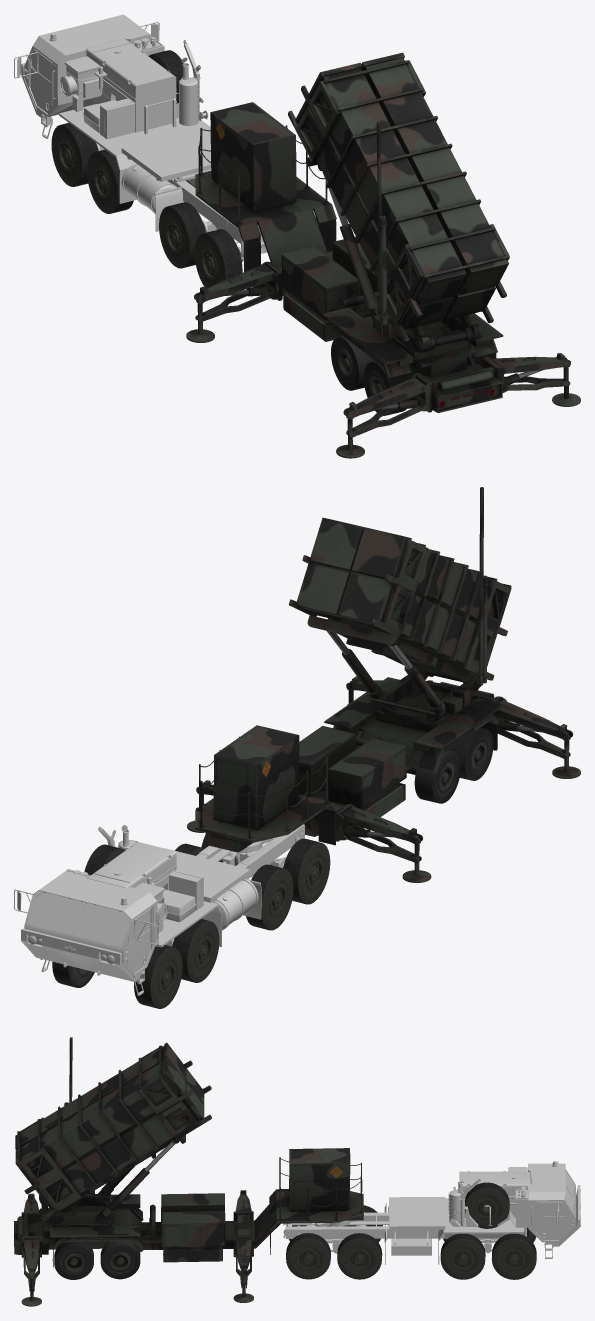
The model's file is patriot.fbx.
3 renders of one model, top to bottom at view 1: azimuth 30°, elevation 25°; view 2: azimuth 150°, elevation 25°; view 3: azimuth 270°, elevation 25°, orthographic. The views are drawn at different scales.
Parts seen in each view (by area): view 1: launcher, cabin, wheels, chassis; view 2: launcher, cabin, wheels, chassis; view 3: launcher, wheels, cabin, chassis.
Part boxes in pixels (x1,y1,x2,y2): launcher: (186, 52, 580, 458); cabin: (14, 14, 208, 139); wheels: (51, 50, 318, 288); chassis: (59, 104, 267, 261); launcher: (187, 487, 580, 882); cabin: (14, 825, 203, 995); wheels: (52, 835, 330, 1008); chassis: (155, 824, 304, 947); launcher: (14, 1037, 363, 1306); wheels: (286, 1182, 536, 1279); cabin: (448, 1161, 580, 1258); chassis: (283, 1197, 526, 1264).
Size of the model in its own units: 666 by 781 by 1916.
